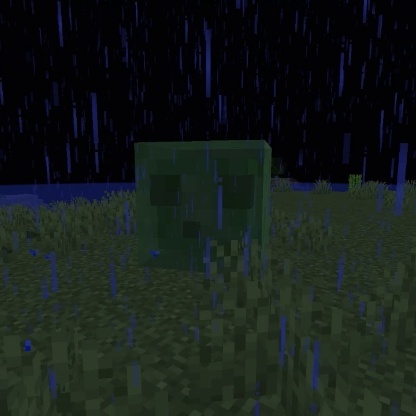slime: (127, 134, 277, 275)
